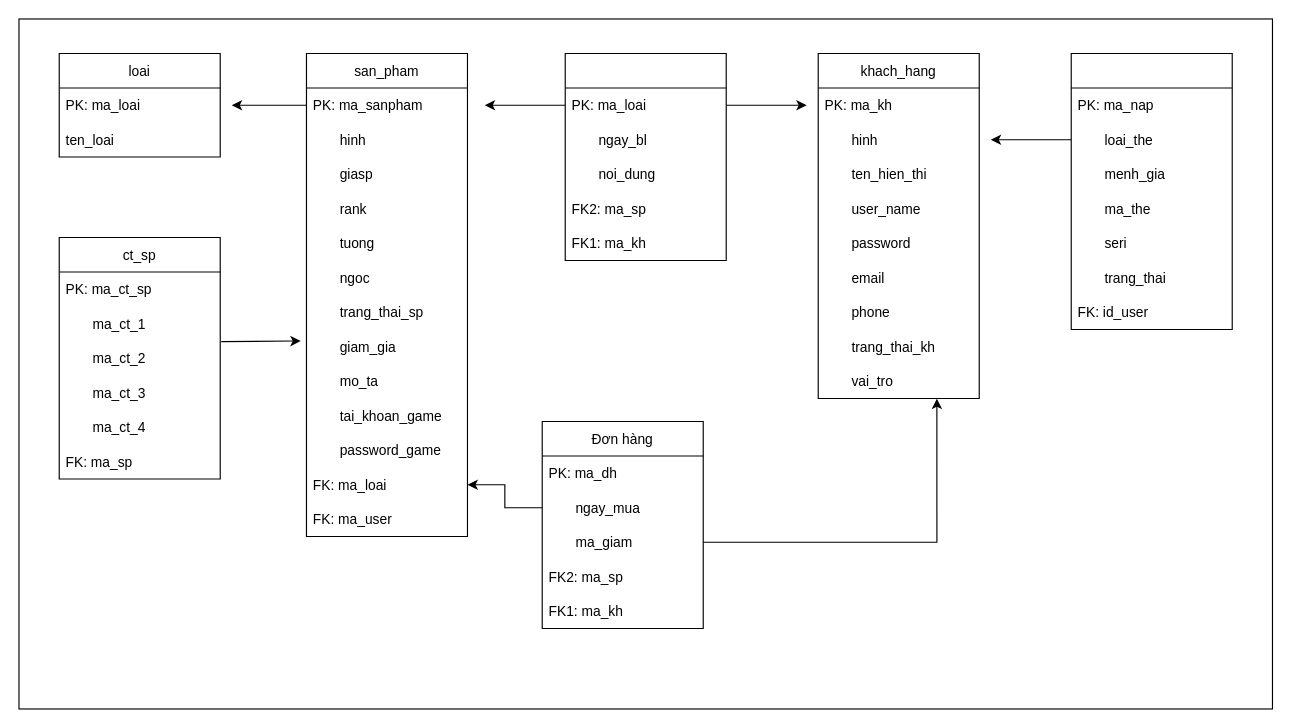
This 1291x728 diagram has some shape labels left out. Here are the shapes that lost their labels. From the top down, the box of each, then its label:
(564, 52, 726, 260): binh_luan
(1070, 52, 1232, 329): lich_su_nap
